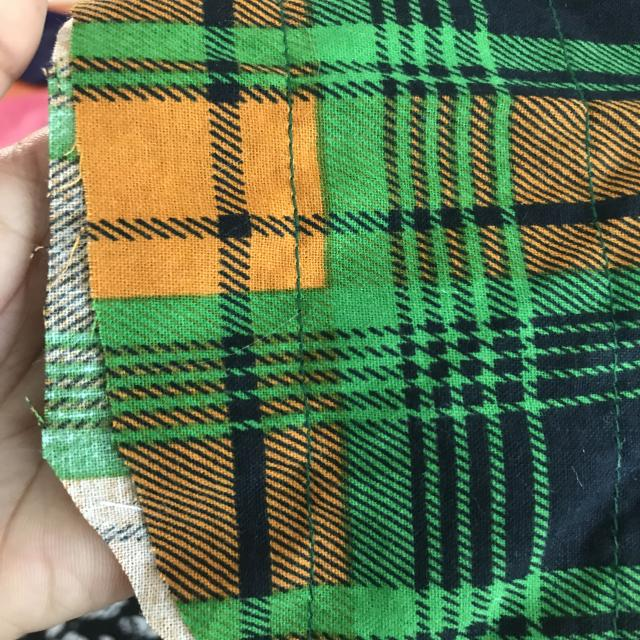good: (280, 130, 306, 208)
